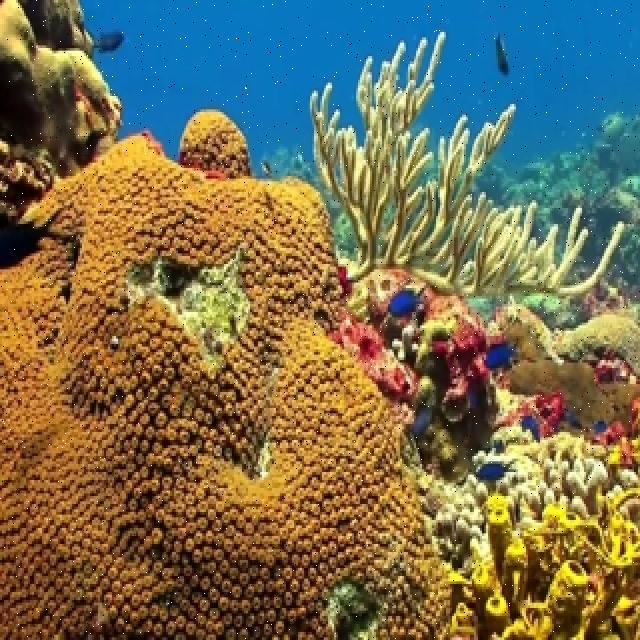fish: (486, 337, 530, 370), (387, 287, 433, 318), (477, 459, 522, 482), (93, 31, 125, 53), (495, 32, 510, 75)
reefs: (0, 131, 454, 637), (309, 28, 625, 297), (0, 0, 137, 219), (444, 488, 638, 637), (180, 110, 253, 178)
